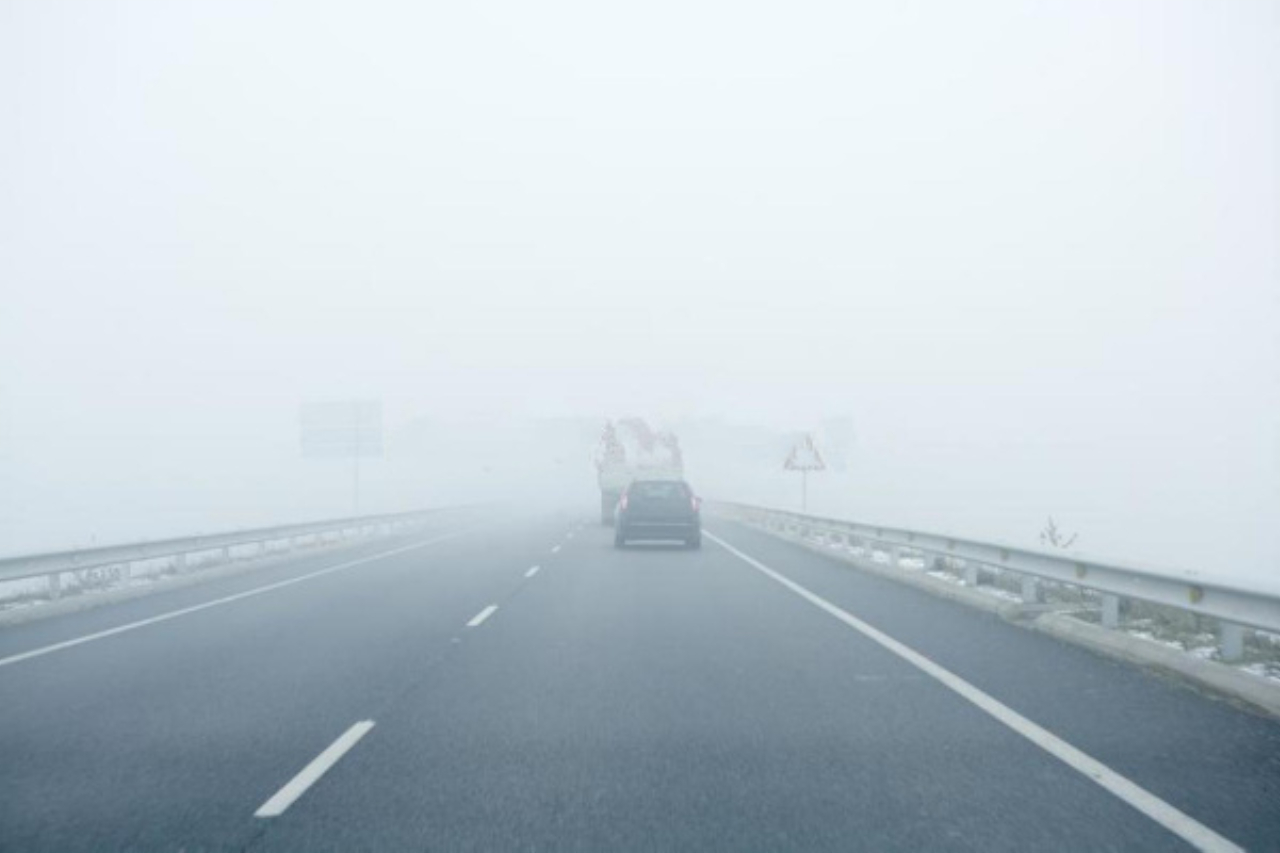car: (611, 480, 701, 551)
truck: (593, 421, 685, 529)
